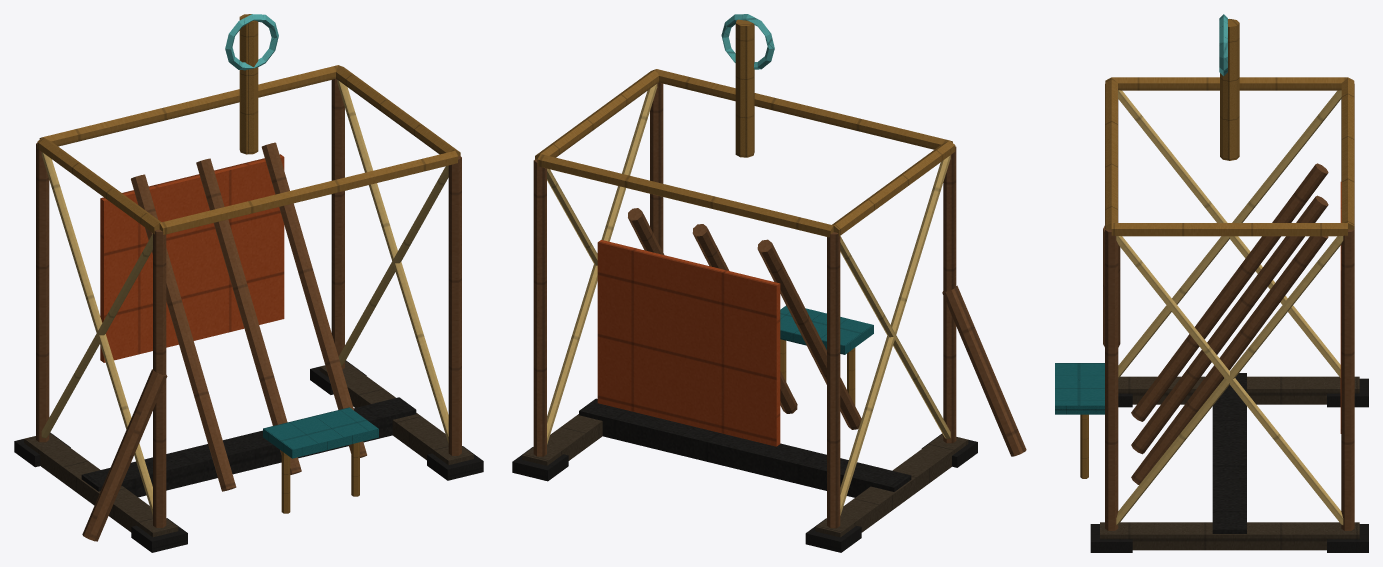
The model's file is ark-scaffold-stage-3.e9.glb.
3 renders of one model, left to right at view 1: azimuth 30°, elevation 25°; view 2: azimuth 150°, elevation 25°; view 3: azimuth 270°, elevation 25°, orthographic.
Visible parts, largest first — view 1: ArkScaffoldStage3E9; view 2: ArkScaffoldStage3E9; view 3: ArkScaffoldStage3E9.
Boxes of the visible parts, x1,y1,x2,y2 form: ArkScaffoldStage3E9: [14, 14, 483, 552]; ArkScaffoldStage3E9: [512, 14, 1026, 552]; ArkScaffoldStage3E9: [1055, 14, 1368, 552].
Size of the model in its own units: 3.69 by 4.08 by 2.55.
1 material, 1 textured.
